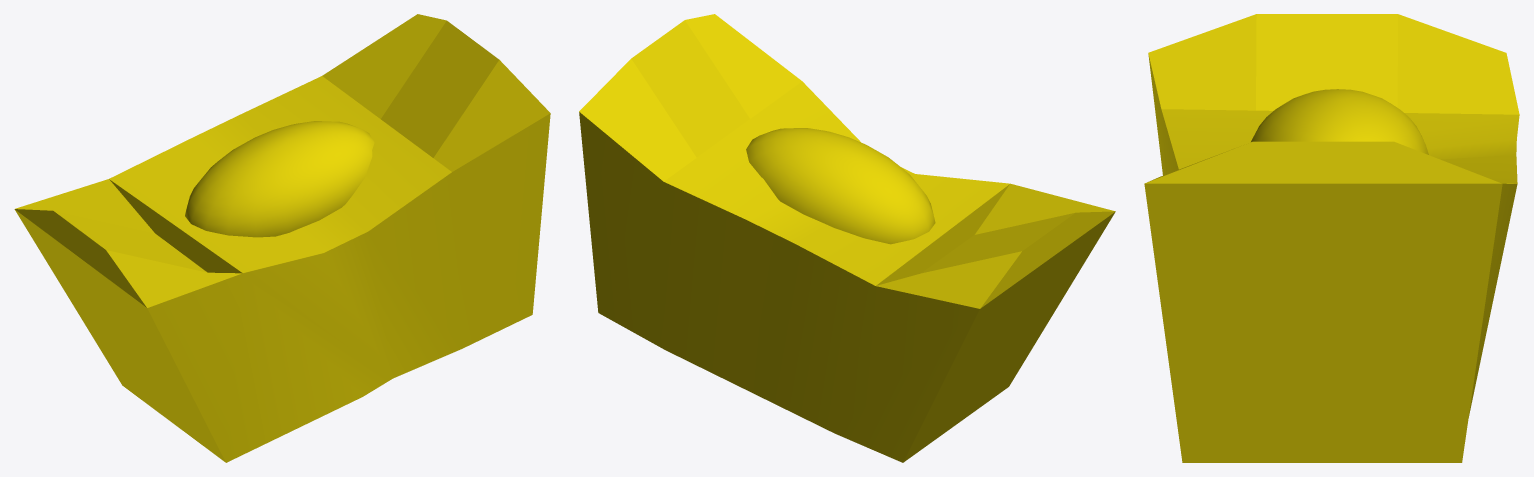
3 renders of one model, left to right at view 1: azimuth 30°, elevation 25°; view 2: azimuth 150°, elevation 25°; view 3: azimuth 270°, elevation 25°, orthographic. The views are drawn at different scales.
Parts seen in each view (by area): view 1: pCube1; view 2: pCube1; view 3: pCube1.
Part boxes in pixels (x1,y1,x2,y2): pCube1: [14, 14, 550, 462]; pCube1: [579, 14, 1115, 462]; pCube1: [1144, 14, 1519, 462].
Size of the model in its own units: 2.37 by 1.75 by 1.43.
